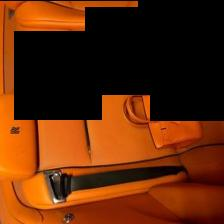orange: (0, 0, 224, 178)
